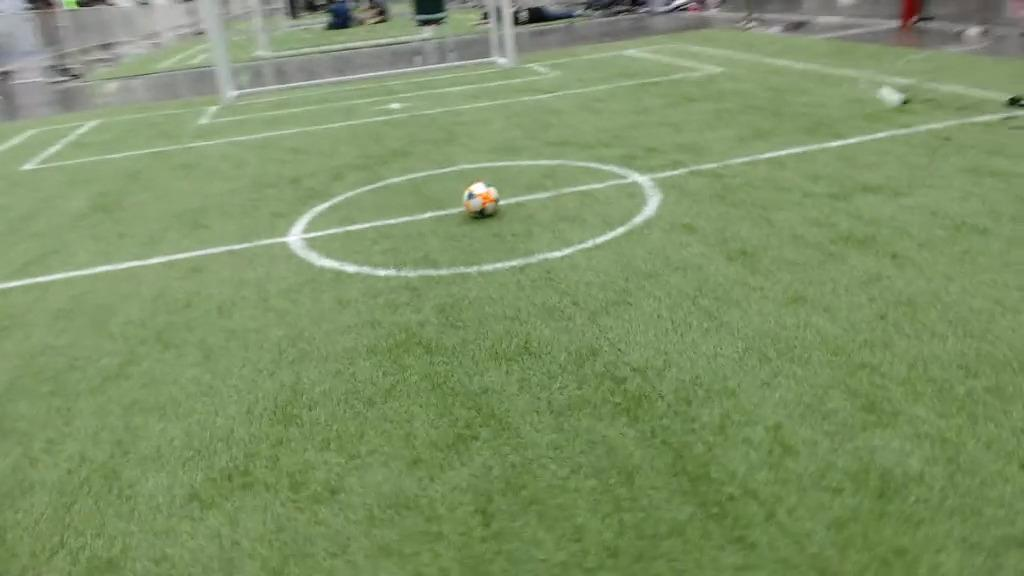ball: (461, 181, 503, 218)
